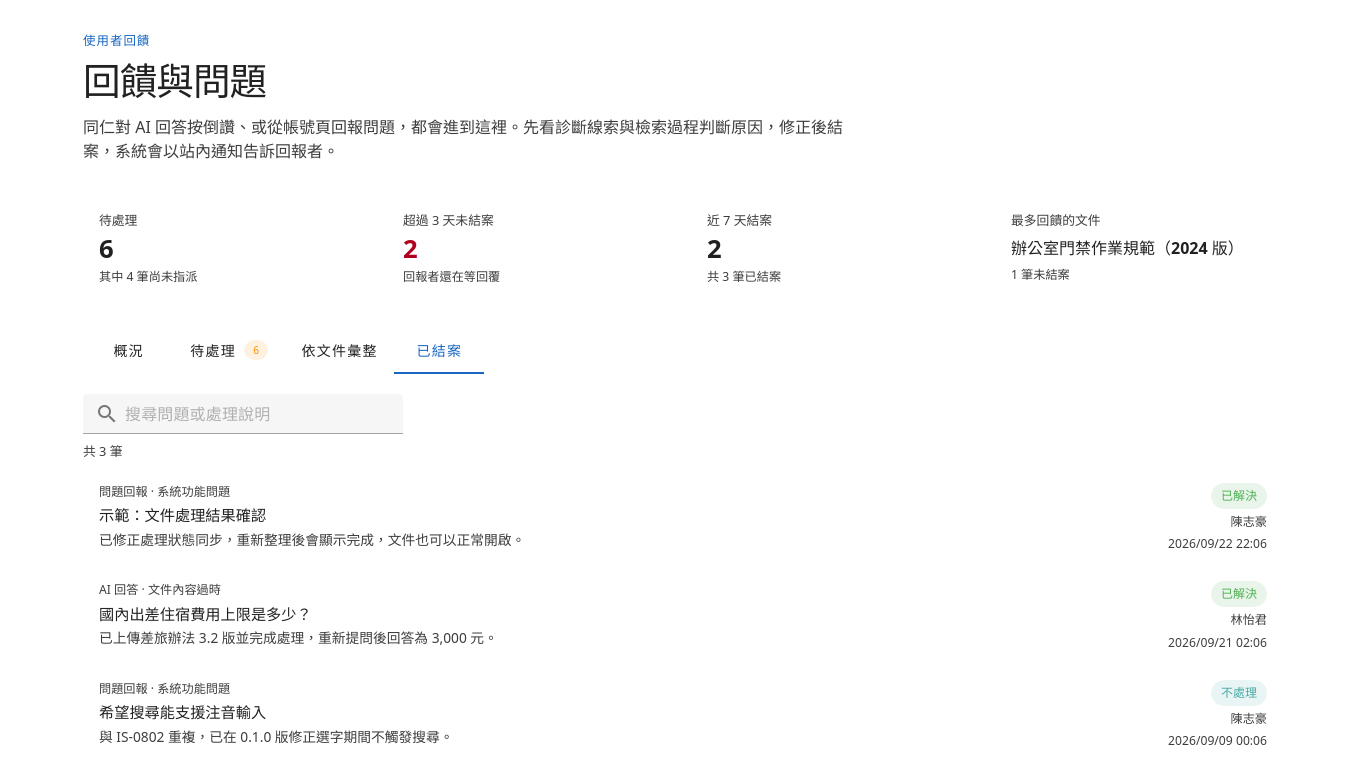
AdminFeedbackView › should list closed cases and search them
This screenshot has width=1366, height=768.
Type "完全不會出現的關鍵字" into the field with placeholder "搜尋問題或處理說明" at (255, 414), box x1=119 y1=394 x2=391 y2=434
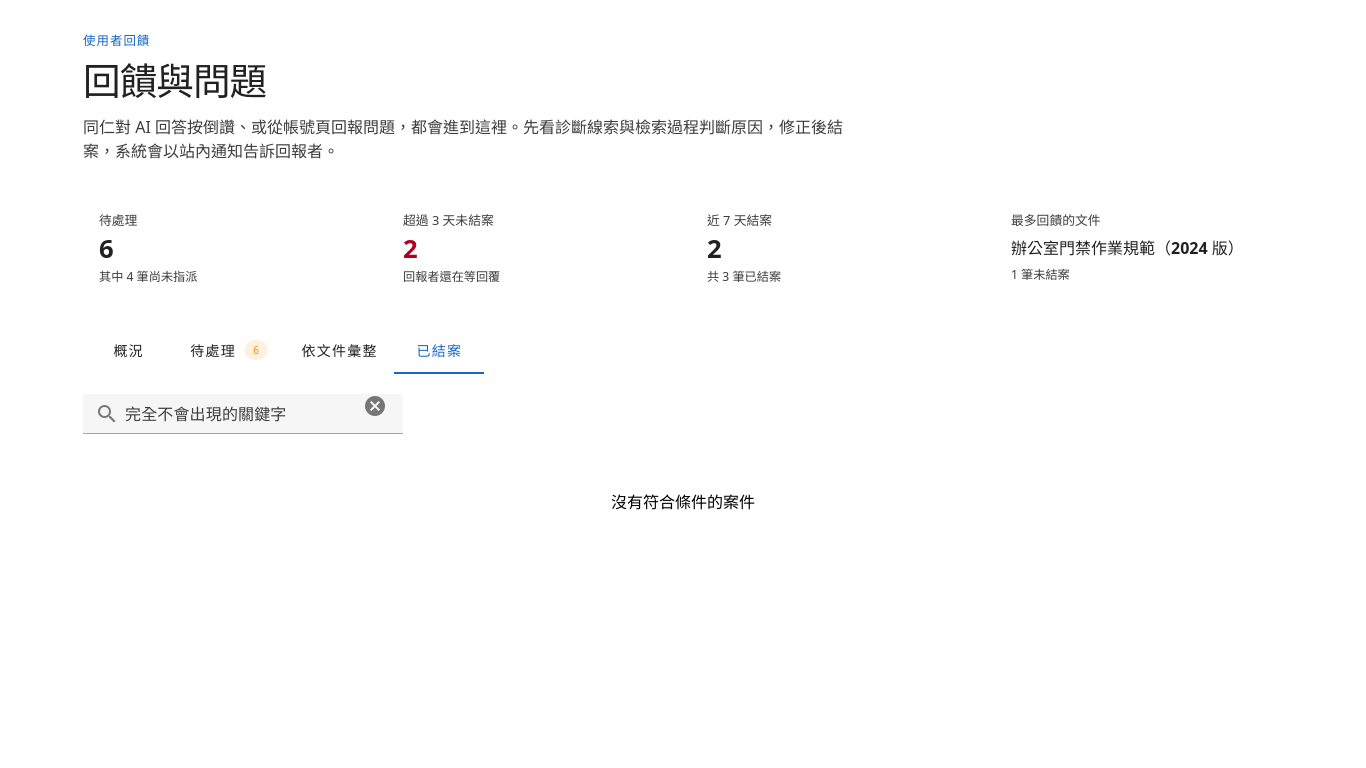
expect the text "沒有符合條件的案件" is shown: met, box x1=611 y1=490 x2=755 y2=514
